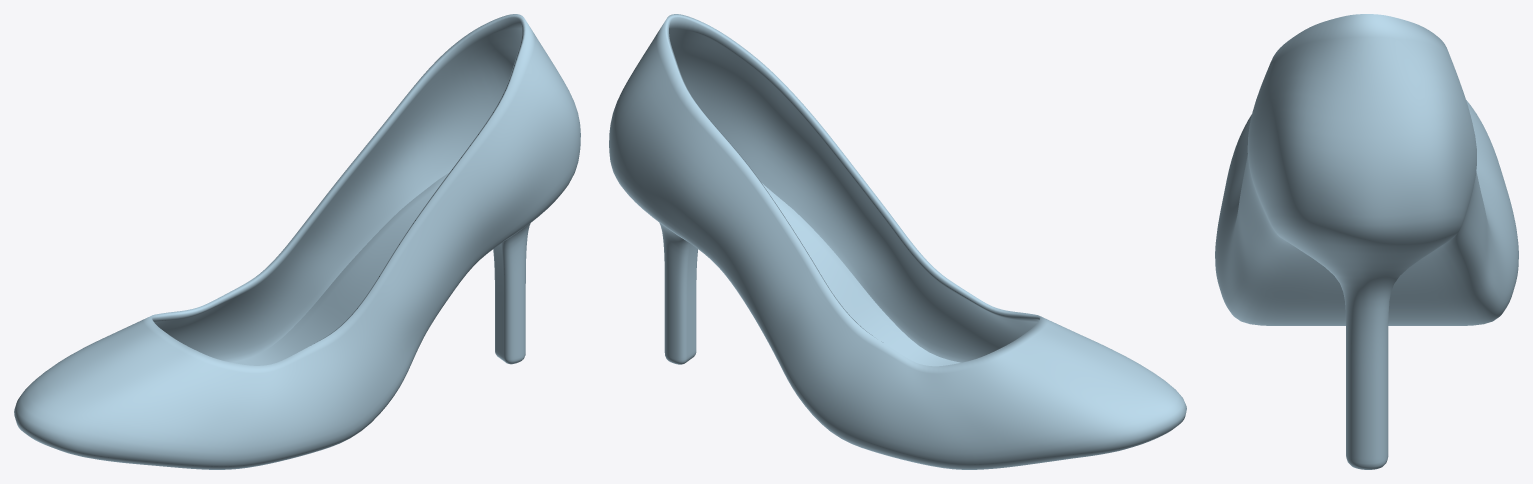
Rendered from Shoe.fbx.
The picture shows the model from 3 angles, left to right: view 1: azimuth 30°, elevation 25°; view 2: azimuth 150°, elevation 25°; view 3: azimuth 270°, elevation 25°; orthographic projection. The views are drawn at different scales.
Parts seen in each view (by area): view 1: Shoe; view 2: Shoe; view 3: Shoe.
Boxes of the visible parts, x1,y1,x2,y2 form: Shoe: [14, 14, 580, 469]; Shoe: [609, 14, 1186, 469]; Shoe: [1215, 14, 1518, 469].
Size of the model in its own units: 10.24 by 6.01 by 3.61.
